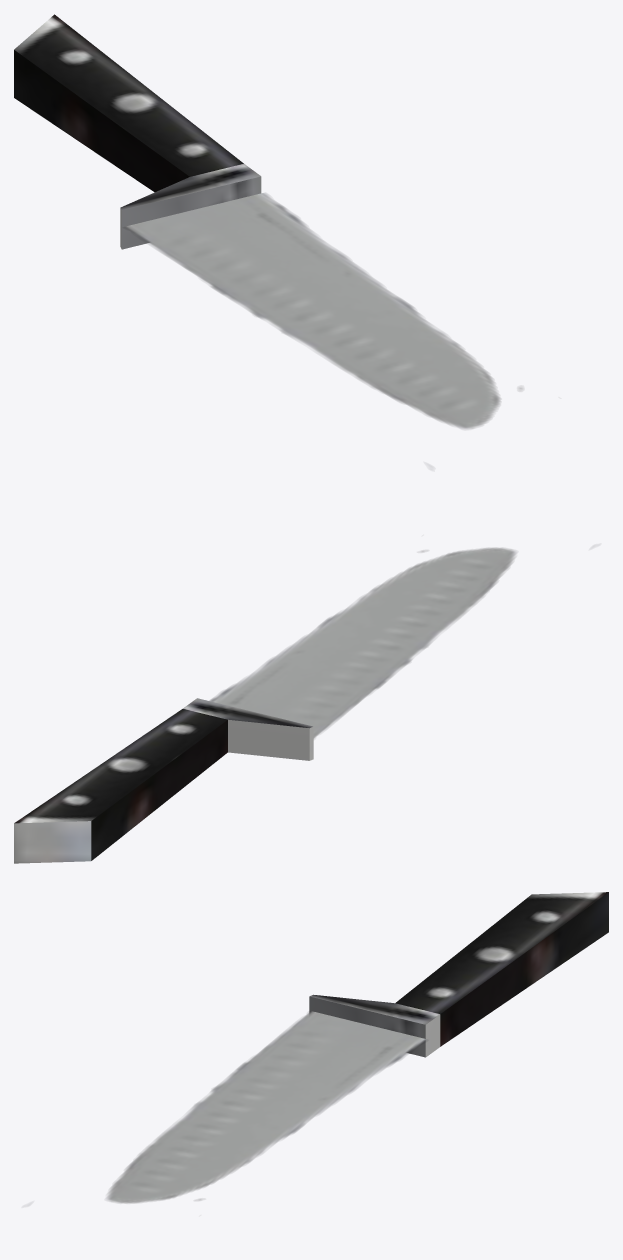
The model's file is Knife_06.glb.
The picture shows the model from 3 angles, top to bottom: view 1: azimuth 30°, elevation 25°; view 2: azimuth 150°, elevation 25°; view 3: azimuth 330°, elevation 25°; orthographic projection. The views are drawn at different scales.
Parts seen in each view (by area): view 1: Knife_06; view 2: Knife_06; view 3: Knife_06.
Part boxes in pixels (bbox=[...]): Knife_06: bbox=[14, 14, 522, 429]; Knife_06: bbox=[14, 547, 517, 863]; Knife_06: bbox=[105, 892, 608, 1203].
Size of the model in its own units: 0.1181 by 0.03 by 0.6161.
Materials: 1 (1 with a texture image).
